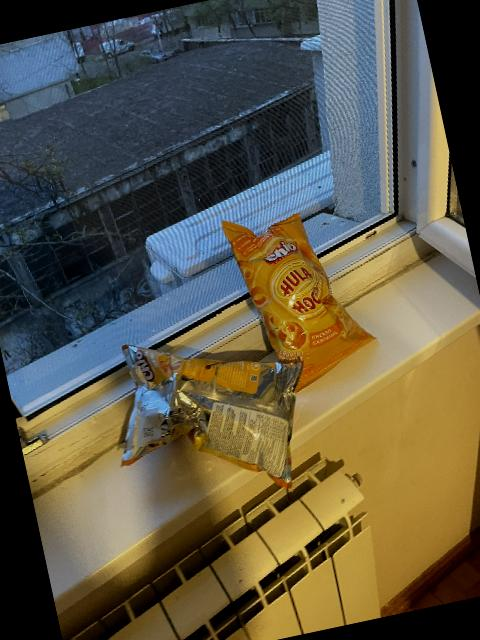Chio Cascaval 125g: (100, 309, 326, 520)
Chio Hula Hoops Cheese 70g: (227, 198, 380, 384)
